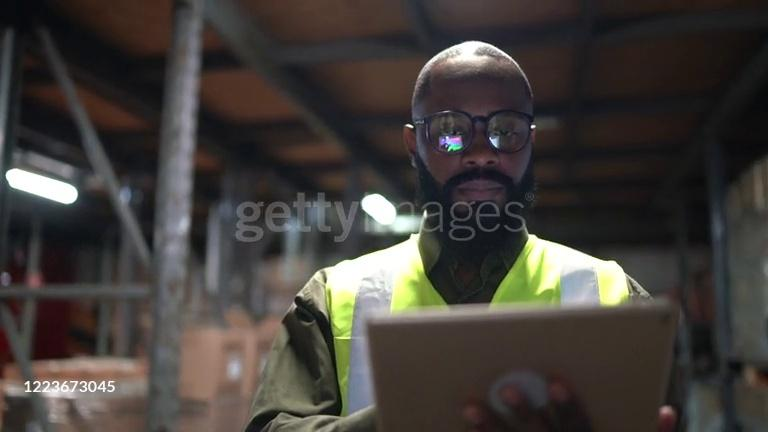person: (243, 38, 679, 432)
